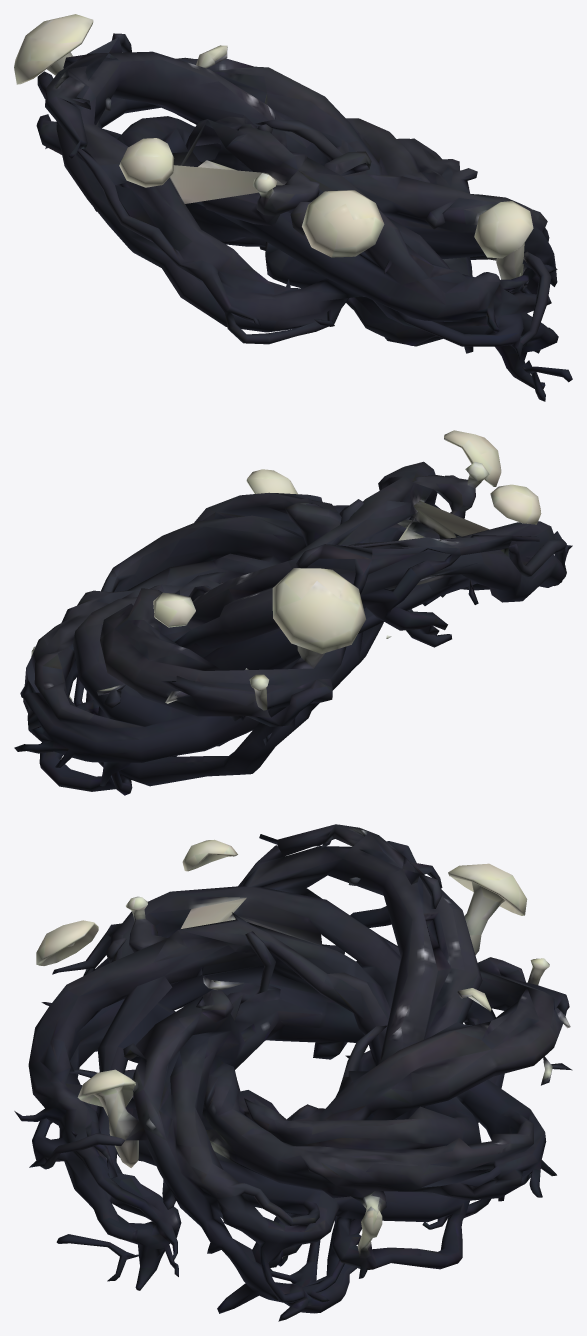
The model's file is env_rootheart.glb.
3 views of the same model, one above another, from view 1: azimuth 30°, elevation 25°; view 2: azimuth 150°, elevation 25°; view 3: azimuth 270°, elevation 25° (orthographic). The views are drawn at different scales.
Parts seen in each view (by area): view 1: tripo_node_cefd7ad3-225d-432f-8c0a-341b69909471; view 2: tripo_node_cefd7ad3-225d-432f-8c0a-341b69909471; view 3: tripo_node_cefd7ad3-225d-432f-8c0a-341b69909471.
Part boxes in pixels (<box>): tripo_node_cefd7ad3-225d-432f-8c0a-341b69909471: <box>14,14,572,401</box>; tripo_node_cefd7ad3-225d-432f-8c0a-341b69909471: <box>14,430,572,795</box>; tripo_node_cefd7ad3-225d-432f-8c0a-341b69909471: <box>14,824,572,1321</box>.
Size of the model in its own units: 0.8944 by 0.6125 by 0.9804.
Materials: 1 (1 with a texture image).
